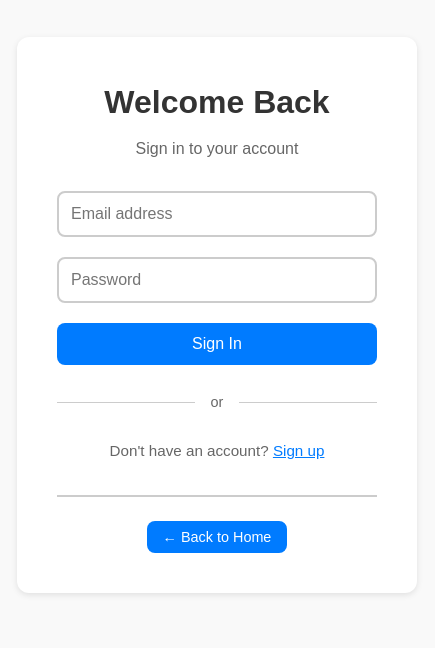
denies login on wrong credentials
The image size is (435, 648).
Step 1. Type "user@test.com" into the field with placeholder "Email address" → (217, 214), box x1=57 y1=191 x2=377 y2=237
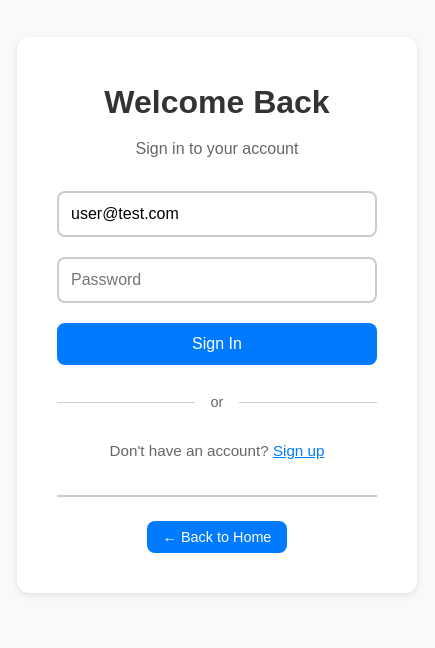
Step 2. Type "badpassword" into the password field with placeholder "Password" → (217, 280), box x1=57 y1=257 x2=377 y2=303
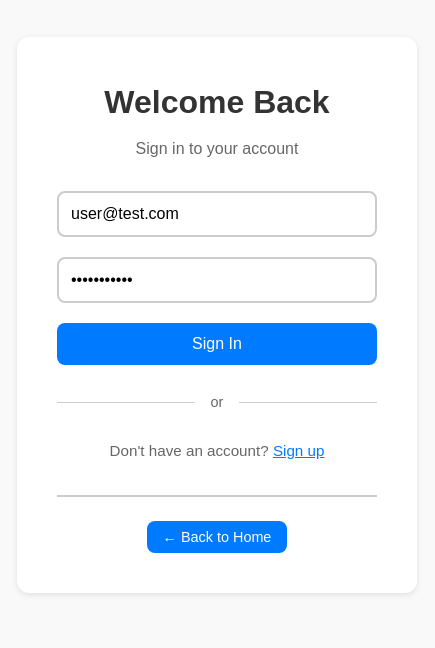
Step 3. Click the button "Sign In" → (217, 344), box x1=57 y1=323 x2=377 y2=365
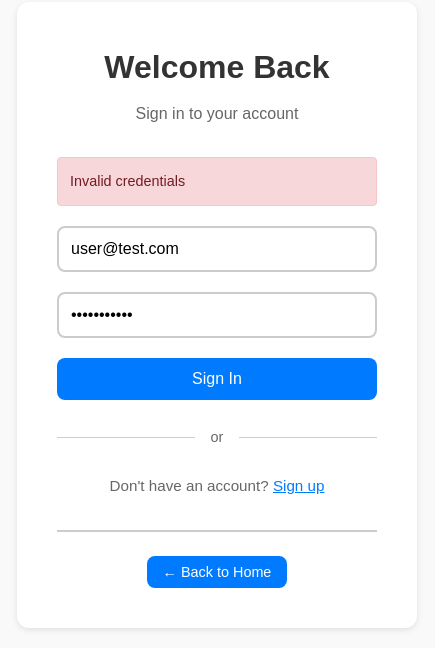
Check: the text "Invalid credentials" is shown, box x1=57 y1=157 x2=377 y2=206
